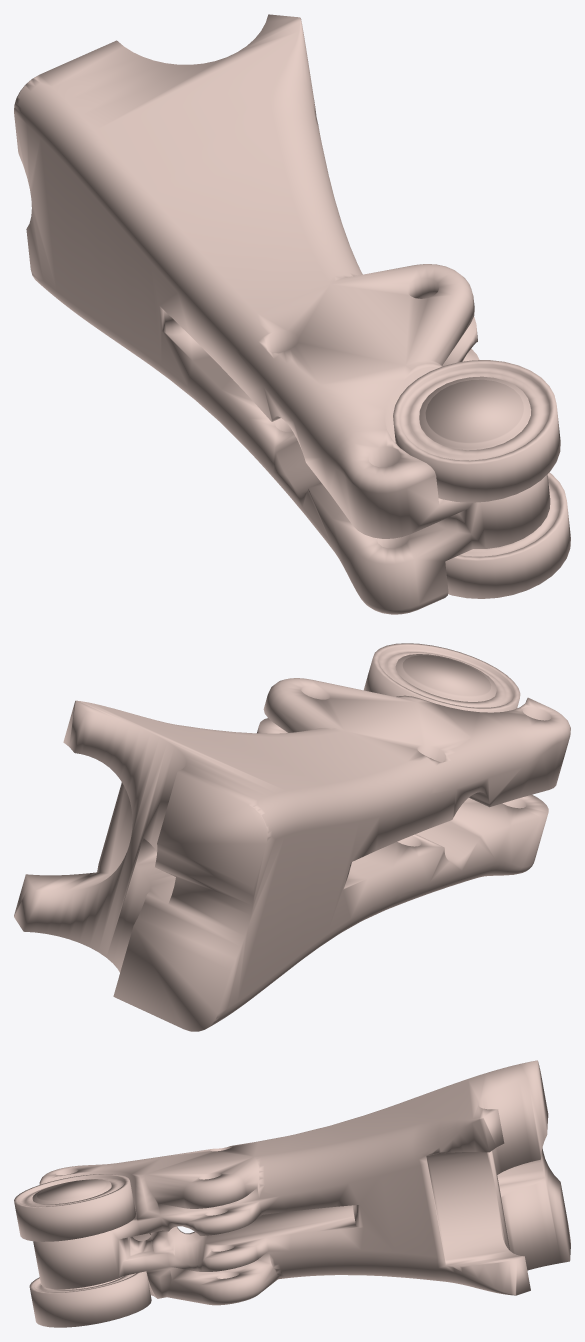
Rendered from pinky_plp_1.obj.
The picture shows the model from 3 angles, top to bottom: view 1: azimuth 30°, elevation 25°; view 2: azimuth 150°, elevation 25°; view 3: azimuth 270°, elevation 25°; orthographic projection. The views are drawn at different scales.
Size of the model in its own units: 20.37 by 22.81 by 47.23.
